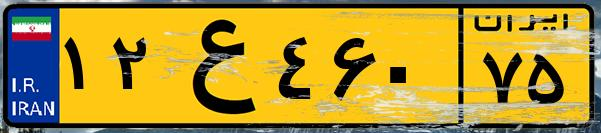0: (385, 28, 445, 110)
1: (57, 26, 110, 100)
2: (110, 28, 158, 98)
4: (270, 28, 330, 110)
5: (525, 38, 570, 115)
6: (330, 28, 385, 110)
7: (475, 38, 525, 113)
ع: (158, 12, 270, 120)
